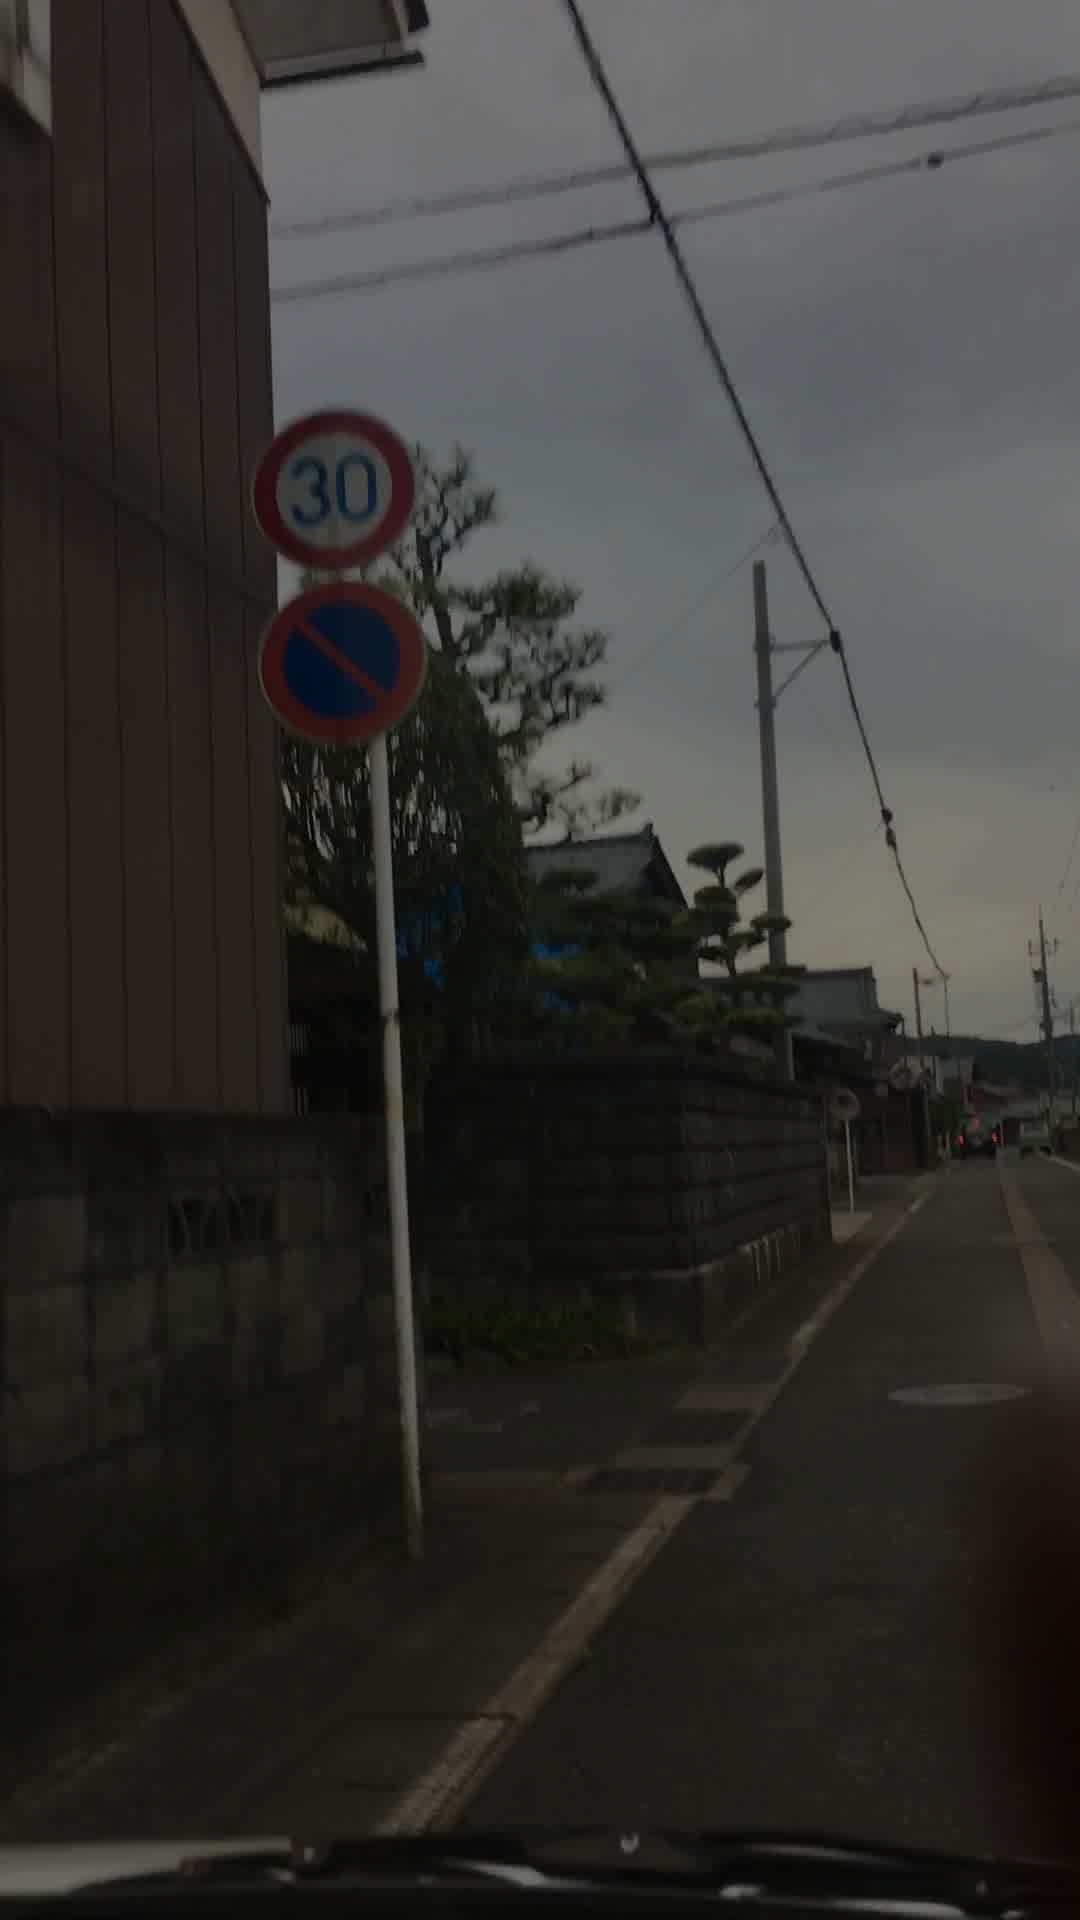Prohibition_sign: (262, 578, 442, 748)
Speed_sign: (236, 404, 429, 572)
